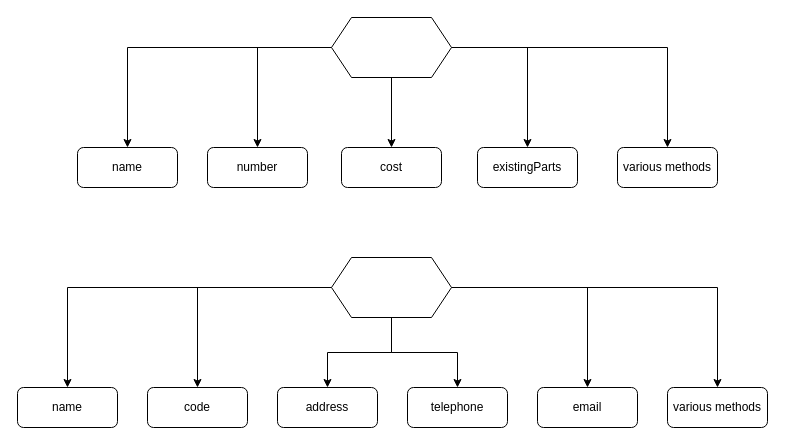
This 785x445 diagram has some shape labels left out. Each missing label, with the centre of its shape:
"SparePart" belongs at (x=391, y=47).
"Supplier" belongs at (x=391, y=287).
